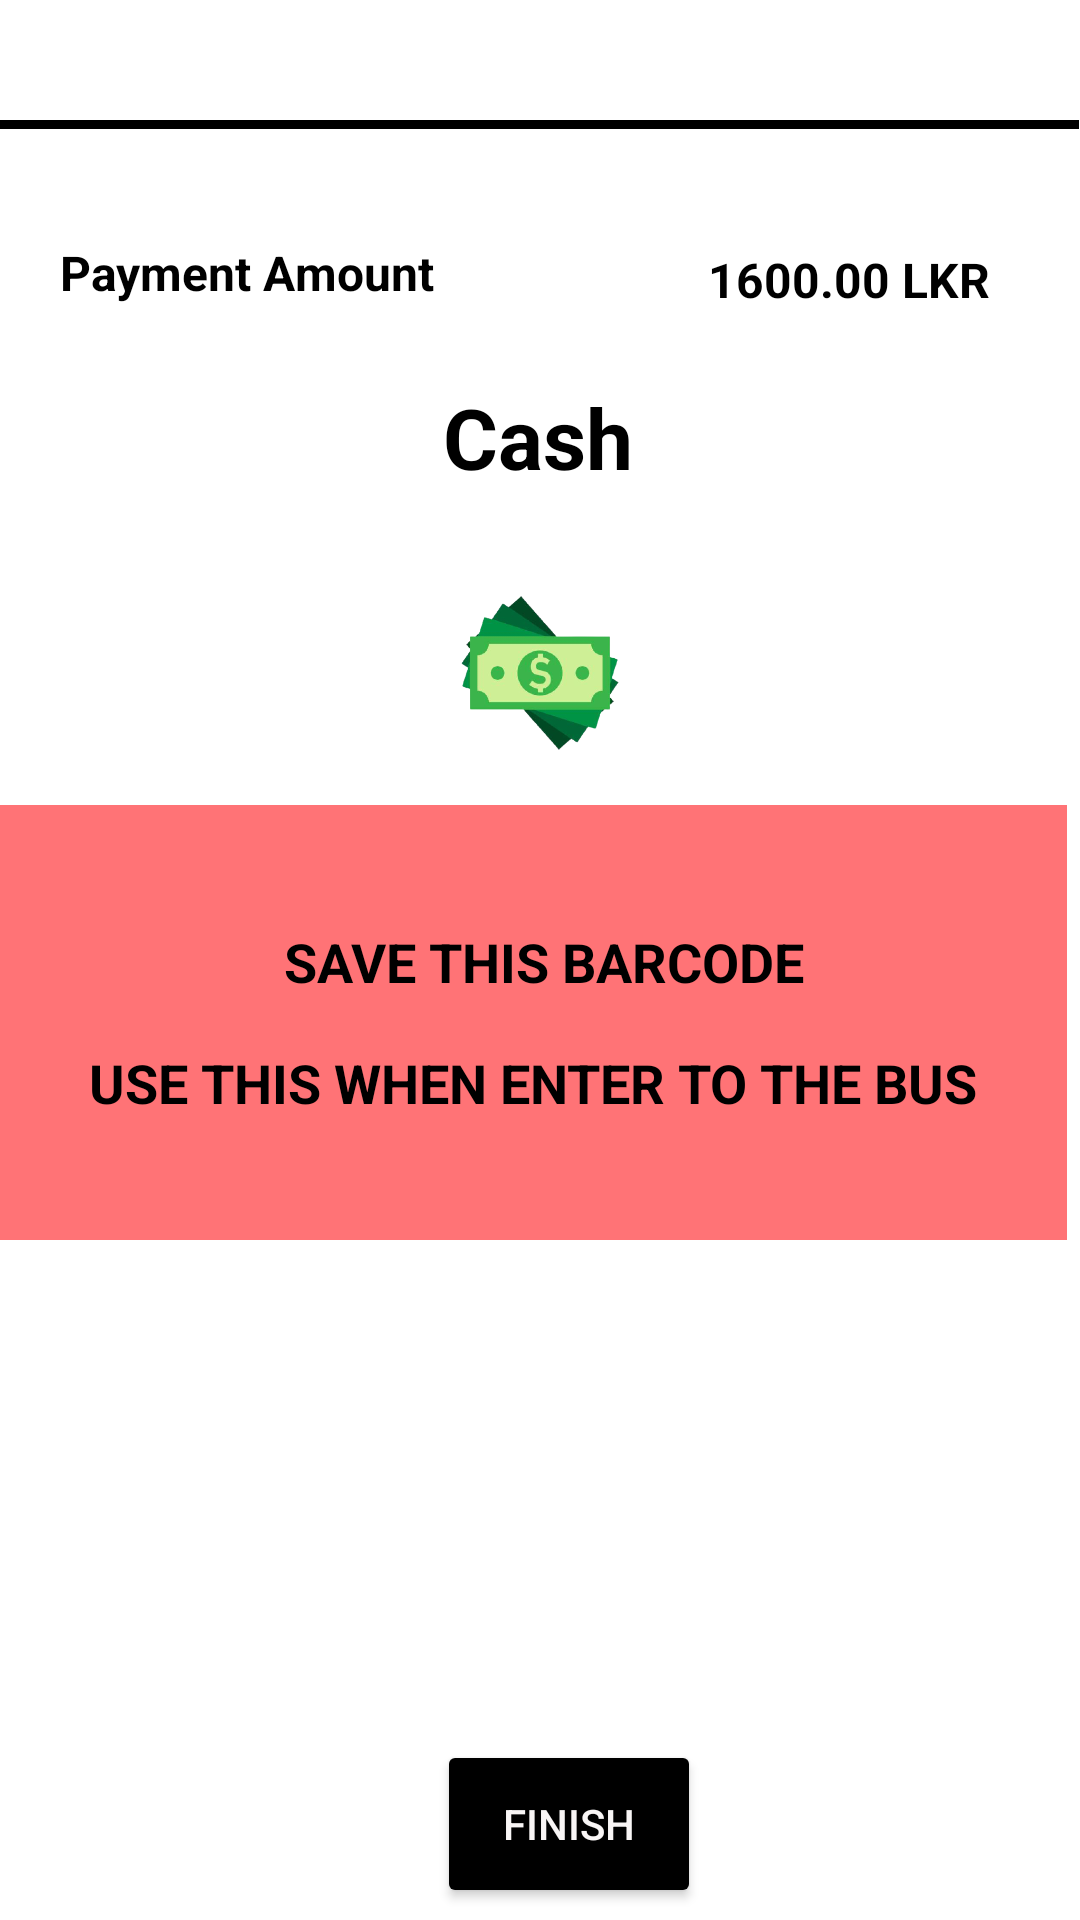

Named icons in this screenshot (1080 × 1920) and their bounding boxes, (x1, y1, x2, y2):
money: (461, 596, 619, 750)
